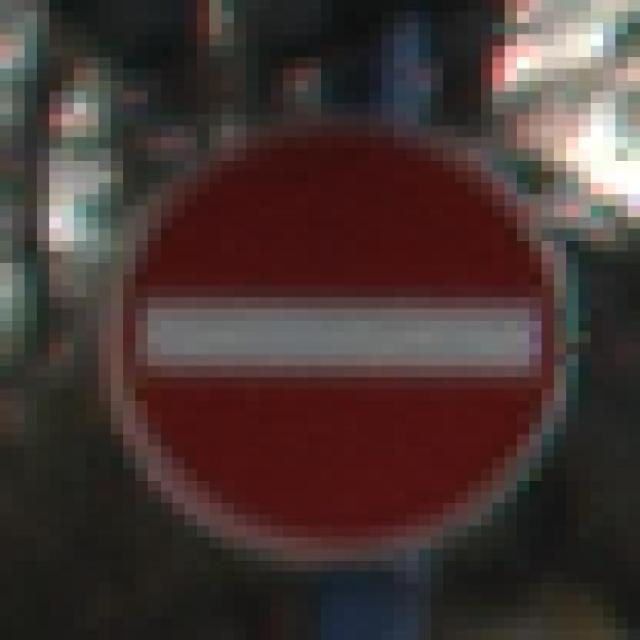B2: (114, 128, 558, 564)
